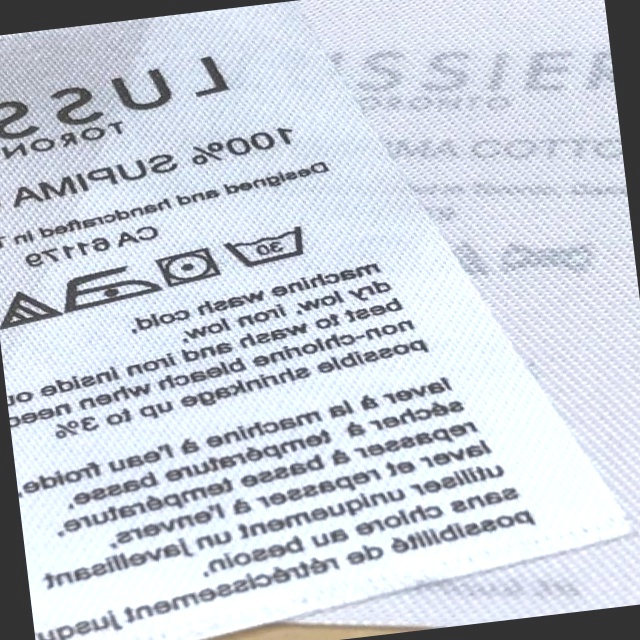30C: (218, 218, 312, 274)
iron_low: (54, 255, 158, 311)
non_chlorine_bleach: (0, 283, 60, 330)
tumble_dry_low: (151, 240, 220, 292)
